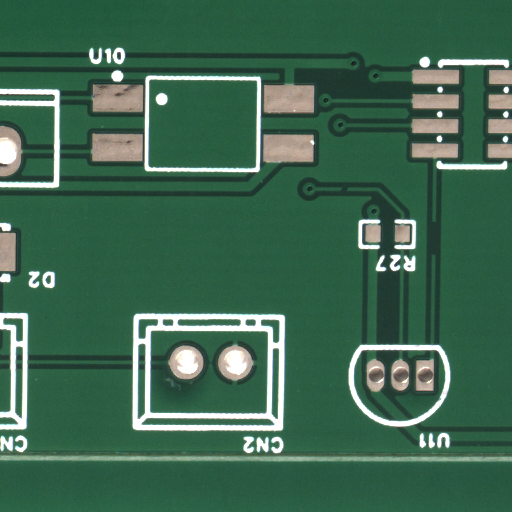Open_circuit: (432, 238, 439, 271), (344, 186, 352, 195)
